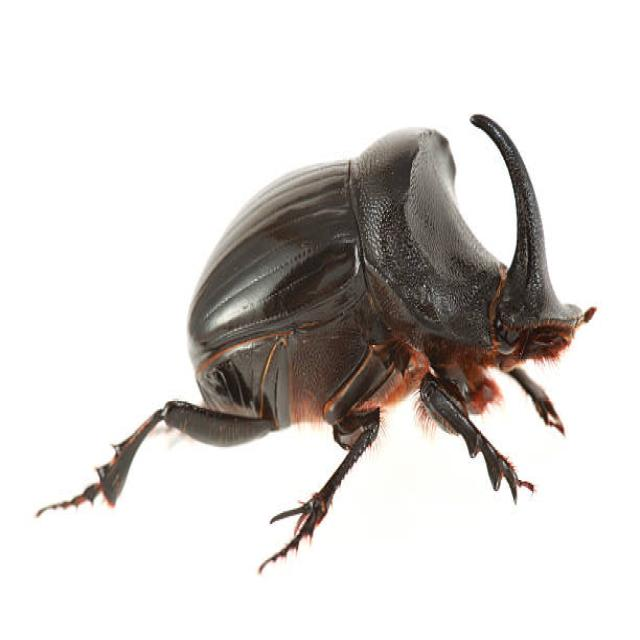Rhino-beetle: (38, 78, 614, 550)
